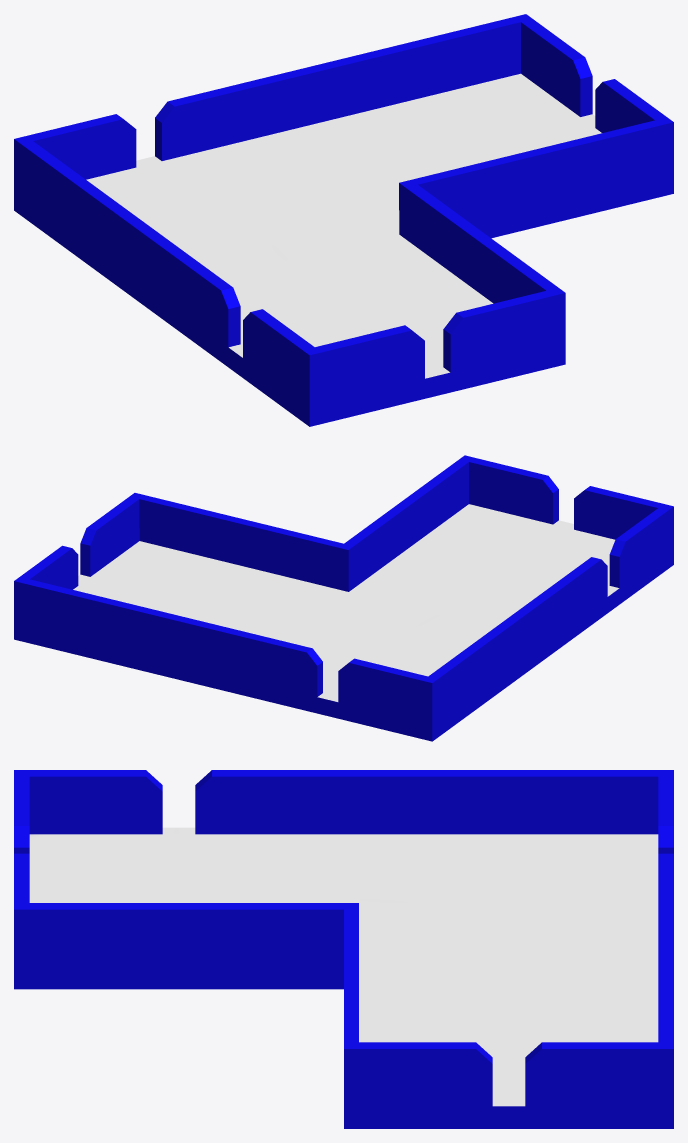
Rendered from dungeon_tile_small_l.obj.
3 views of the same model, one above another, from view 1: azimuth 30°, elevation 25°; view 2: azimuth 150°, elevation 25°; view 3: azimuth 270°, elevation 25° (orthographic). The views are drawn at different scales.
Visible parts, largest first — view 1: Room_SmallL_Cube.003; view 2: Room_SmallL_Cube.003; view 3: Room_SmallL_Cube.003.
Part boxes in pixels (left/top/right/bottom): Room_SmallL_Cube.003: left=14, top=14, right=673, bottom=426; Room_SmallL_Cube.003: left=14, top=455, right=673, bottom=741; Room_SmallL_Cube.003: left=14, top=770, right=673, bottom=1128.
Size of the model in its own units: 4 by 0.5341 by 4.
Materials: 1 (1 with a texture image).
